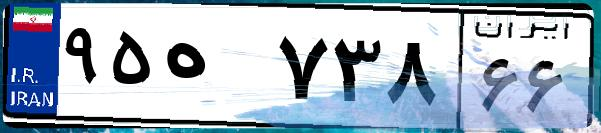3: (330, 28, 385, 110)
5: (110, 28, 158, 98)
6: (475, 38, 525, 113), (525, 38, 570, 115)
7: (270, 28, 330, 110)
8: (385, 28, 445, 110)
9: (57, 26, 110, 100)
ه: (158, 20, 270, 120)
